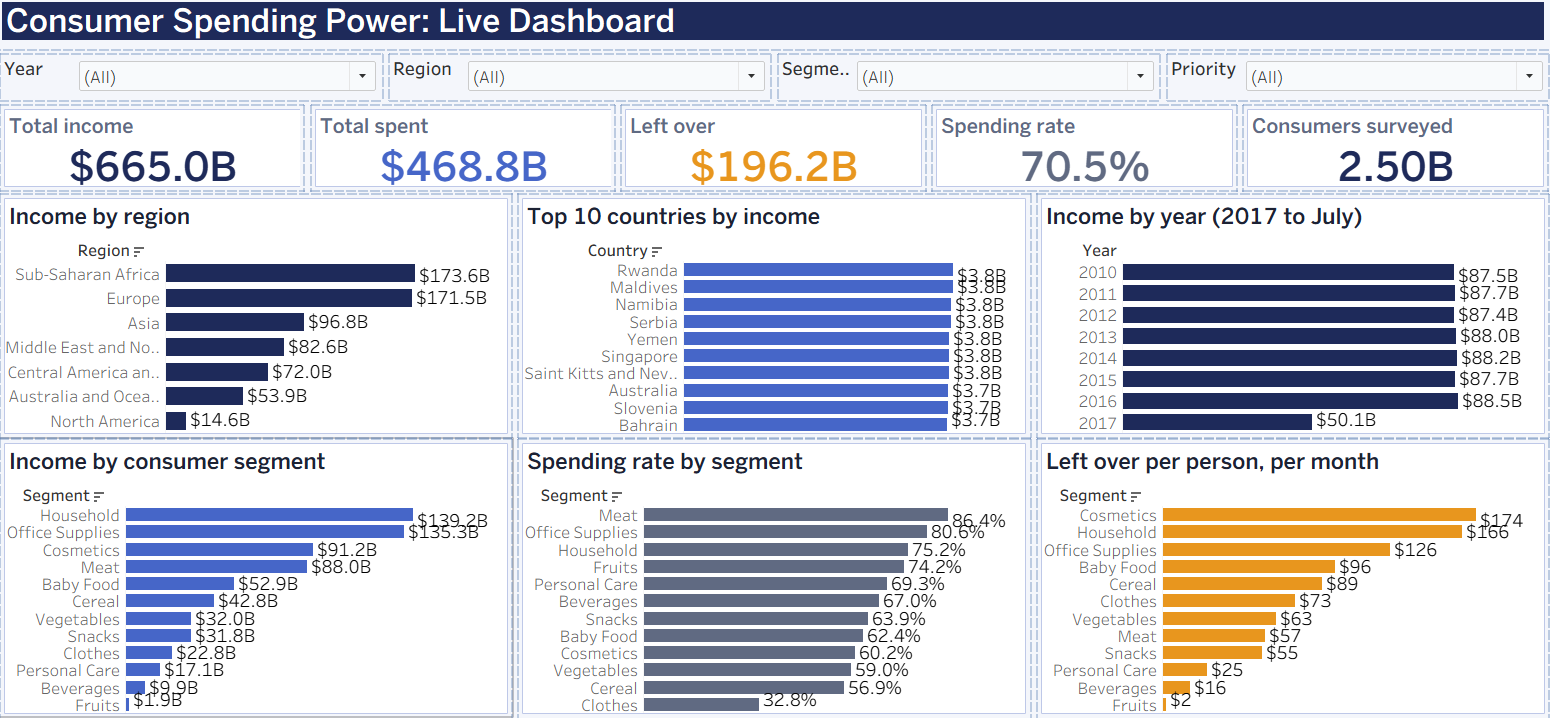

The dashboard page shown, as its layout file describes it:
{"tool":"tableau","page":{"name":"Dashboard","canvas":[1000,1000],"units":"permille","ordinal":1},"visuals":[{"type":"text","box":[0,0,1000,80]},{"type":"filter","title":"Income by region","param":"[federated.0credpal1summary2spending3].[none:Year:ok]","box":[5,85,245,65]},{"type":"filter","title":"Income by region","param":"[federated.0credpal1summary2spending3].[none:Region:nk]","box":[254,85,245,65]},{"type":"filter","title":"Income by region","param":"[federated.0credpal1summary2spending3].[none:Segment:nk]","box":[503,85,245,65]},{"type":"filter","title":"Income by region","param":"[federated.0credpal1summary2spending3].[none:Priority:nk]","box":[752,85,245,65]},{"type":"worksheet","title":"Total income","mark":"Automatic","box":[5,155,195,118]},{"type":"worksheet","title":"Total spent","mark":"Automatic","box":[204,155,195,118]},{"type":"worksheet","title":"Left over","mark":"Automatic","box":[403,155,195,118]},{"type":"worksheet","title":"Spending rate","mark":"Automatic","box":[602,155,195,118]},{"type":"worksheet","title":"Consumers surveyed","mark":"Automatic","box":[801,155,195,118]},{"type":"worksheet","title":"Income by region","mark":"Bar","rows":["Region"],"cols":["Calculation_1000000000000001"],"box":[5,278,328,335]},{"type":"worksheet","title":"Top 10 countries","mark":"Bar","rows":["Country"],"cols":["Calculation_1000000000000001"],"box":[337,278,328,335]},{"type":"worksheet","title":"Income by year","mark":"Bar","rows":["Year"],"cols":["Calculation_1000000000000001"],"box":[669,278,328,335]},{"type":"worksheet","title":"Income by segment","mark":"Bar","rows":["Segment"],"cols":["Calculation_1000000000000001"],"box":[5,615,328,383]},{"type":"worksheet","title":"Spending rate by segment","mark":"Bar","rows":["Segment"],"cols":["Calculation_1000000000000004"],"box":[337,615,328,383]},{"type":"worksheet","title":"Left over per person","mark":"Bar","rows":["Segment"],"cols":["Calculation_1000000000000006"],"box":[669,615,328,383]}]}

Visuals, with their boxes on the dashboard's canvas, which has no fixed pixel size, in thousandths of its width and height (x1, y1, x2, y2). These are canvas units, not pixel positions in the 1550x718 screenshot, which may show the page scaled, cropped or inside an application window:
text: <bbox>0, 0, 1000, 80</bbox>
"Income by region" filter: <bbox>5, 85, 250, 150</bbox>
"Income by region" filter: <bbox>254, 85, 499, 150</bbox>
"Income by region" filter: <bbox>503, 85, 748, 150</bbox>
"Income by region" filter: <bbox>752, 85, 997, 150</bbox>
"Total income" worksheet: <bbox>5, 155, 200, 273</bbox>
"Total spent" worksheet: <bbox>204, 155, 399, 273</bbox>
"Left over" worksheet: <bbox>403, 155, 598, 273</bbox>
"Spending rate" worksheet: <bbox>602, 155, 797, 273</bbox>
"Consumers surveyed" worksheet: <bbox>801, 155, 996, 273</bbox>
"Income by region" worksheet (Bar marks): <bbox>5, 278, 333, 613</bbox>
"Top 10 countries" worksheet (Bar marks): <bbox>337, 278, 665, 613</bbox>
"Income by year" worksheet (Bar marks): <bbox>669, 278, 997, 613</bbox>
"Income by segment" worksheet (Bar marks): <bbox>5, 615, 333, 998</bbox>
"Spending rate by segment" worksheet (Bar marks): <bbox>337, 615, 665, 998</bbox>
"Left over per person" worksheet (Bar marks): <bbox>669, 615, 997, 998</bbox>
